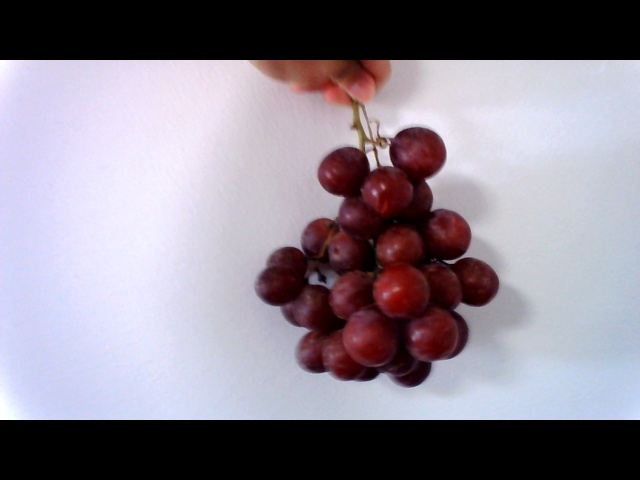grape: (241, 120, 520, 391)
